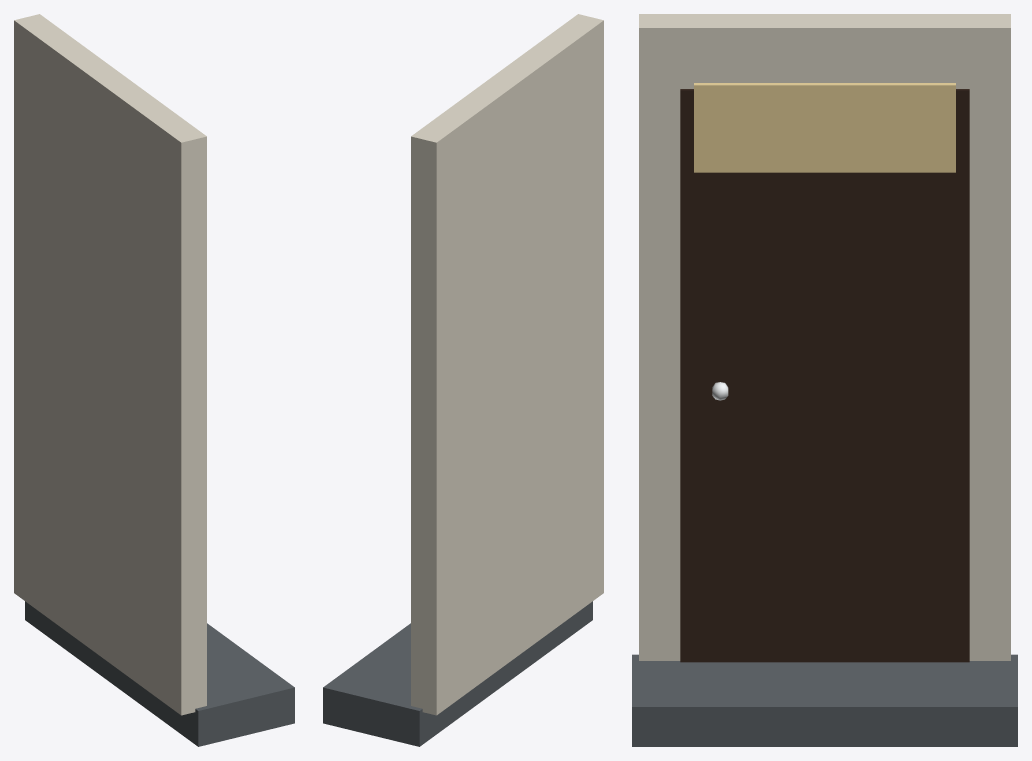
Rendered from door.obj.
The picture shows the model from 3 angles, left to right: view 1: azimuth 30°, elevation 25°; view 2: azimuth 150°, elevation 25°; view 3: azimuth 270°, elevation 25°; orthographic projection. The views are drawn at different scales.
Visible parts, largest first — view 1: part1.nocast, part5.nocast; view 2: part1.nocast, part5.nocast; view 3: part2.nocast, part1.nocast, part5.nocast, part3.nocast.
Part boxes in pixels (box(x1,y1,x2,y2)): part1.nocast: box(14, 14, 206, 715); part5.nocast: box(25, 601, 294, 746); part1.nocast: box(411, 14, 603, 715); part5.nocast: box(323, 601, 592, 746); part2.nocast: box(680, 89, 969, 662); part1.nocast: box(639, 14, 1010, 660); part5.nocast: box(632, 654, 1017, 746); part3.nocast: box(694, 83, 955, 172).
Size of the model in its own units: 0.515 by 2.69 by 1.4.
